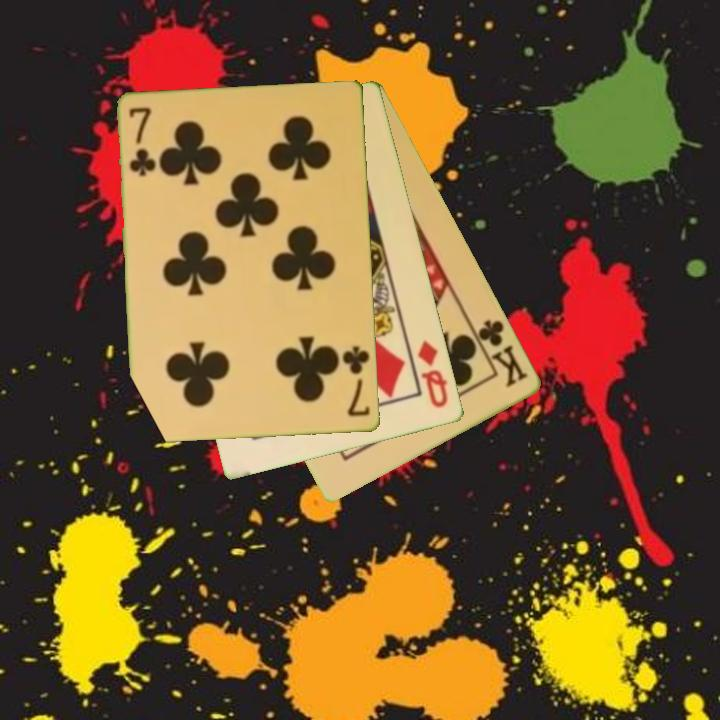7c: (339, 343, 373, 419), (126, 104, 157, 180)
Kc: (469, 316, 532, 391)
Qd: (415, 337, 452, 411)
